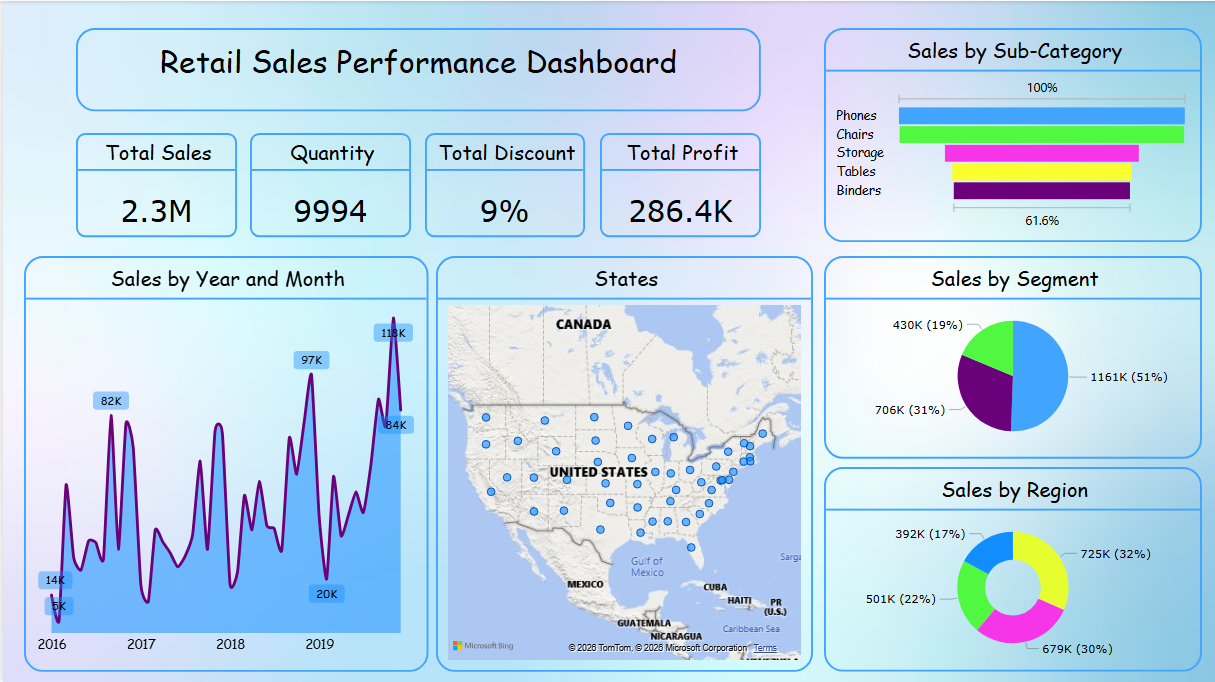

Layout of this report page (visuals, bound fields, positions):
{"tool":"powerbi","page":{"name":"Page 1","canvas":[1280,720],"ordinal":0},"visuals":[{"type":"donutChart","title":"Sales by Region","fields":{"Category":["Orders.Region"],"Y":["Sum(Orders.Sales)"]},"box":[866.7,492.2,398.9,215.6],"z":0},{"type":"funnel","title":"Sales by Sub-Category","fields":{"Category":["Orders.Sub-Category"],"Y":["Sum(Orders.Sales)"]},"box":[866.7,28.9,398.9,225.6],"z":1000},{"type":"map","title":"States","fields":{"Category":["Orders.State"]},"box":[456.7,268.9,397.8,438.9],"z":2000},{"type":"pieChart","title":"Sales by Segment","fields":{"Category":["Orders.Segment"],"Y":["Sum(Orders.Sales)"]},"box":[866.7,268.9,398.9,214.4],"z":3000},{"type":"areaChart","title":"Sales by Year and Month","fields":{"Category":["Orders.Order Date.Variation.Date Hierarchy.Year","Orders.Order Date.Variation.Date Hierarchy.Month"],"Y":["Sum(Orders.Sales)"]},"box":[22.2,268.9,426.7,438.9],"z":4000},{"type":"cardVisual","title":"Total Sales","fields":{"Data":["Sum(Orders.Sales)"]},"box":[76.7,138.9,170,110],"z":5000},{"type":"cardVisual","title":"Total Profit","fields":{"Data":["Sum(Orders.Profit)"]},"box":[630,138.9,170,110],"z":6000},{"type":"cardVisual","title":"Quantity","fields":{"Data":["CountNonNull(Orders.Quantity)"]},"box":[261.1,138.9,170,110],"z":7000},{"type":"cardVisual","title":"Total Discount","fields":{"Data":["Avg(Orders.Discount)"]},"box":[445.6,138.9,168.9,110],"z":8000},{"type":"textbox","box":[76.7,28.9,723.3,87.8],"z":9000}]}

Visuals, with their boxes in screenshot pixels (x1, y1, x2, y2), scaled from the page's 1280x720 canvas onto the 1215x682 screenshot:
"Sales by Region" donutChart: 823/466/1201/670
"Sales by Sub-Category" funnel: 823/27/1201/241
"States" map: 434/255/811/670
"Sales by Segment" pieChart: 823/255/1201/458
"Sales by Year and Month" areaChart: 21/255/426/670
"Total Sales" cardVisual: 73/132/234/236
"Total Profit" cardVisual: 598/132/759/236
"Quantity" cardVisual: 248/132/409/236
"Total Discount" cardVisual: 423/132/583/236
textbox: 73/27/759/111
